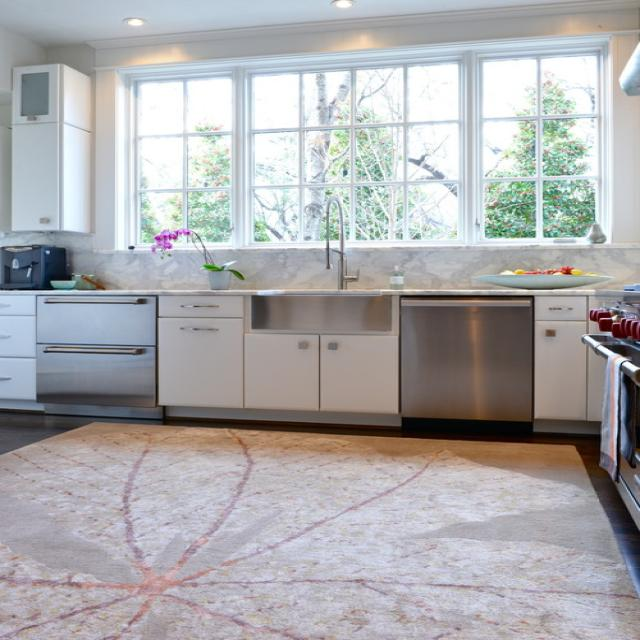dishwasher: (388, 290, 542, 438)
